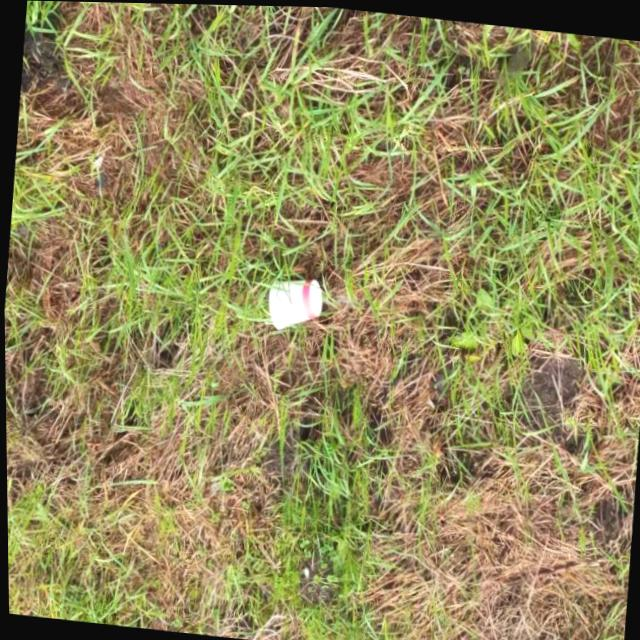Cup: (263, 271, 325, 336)
